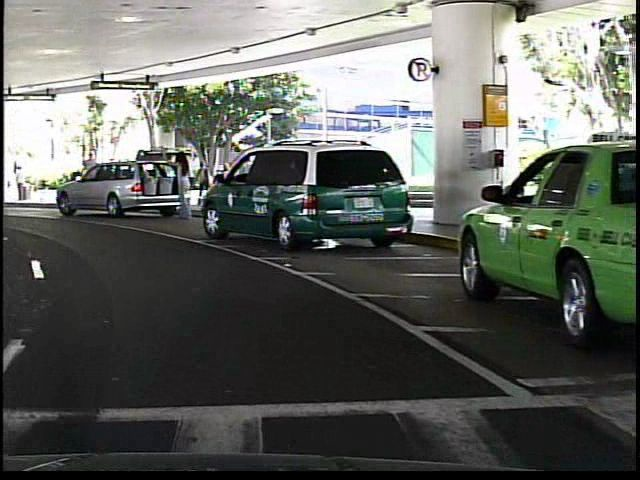person: (171, 146, 191, 226), (183, 155, 209, 213), (74, 149, 99, 201)
